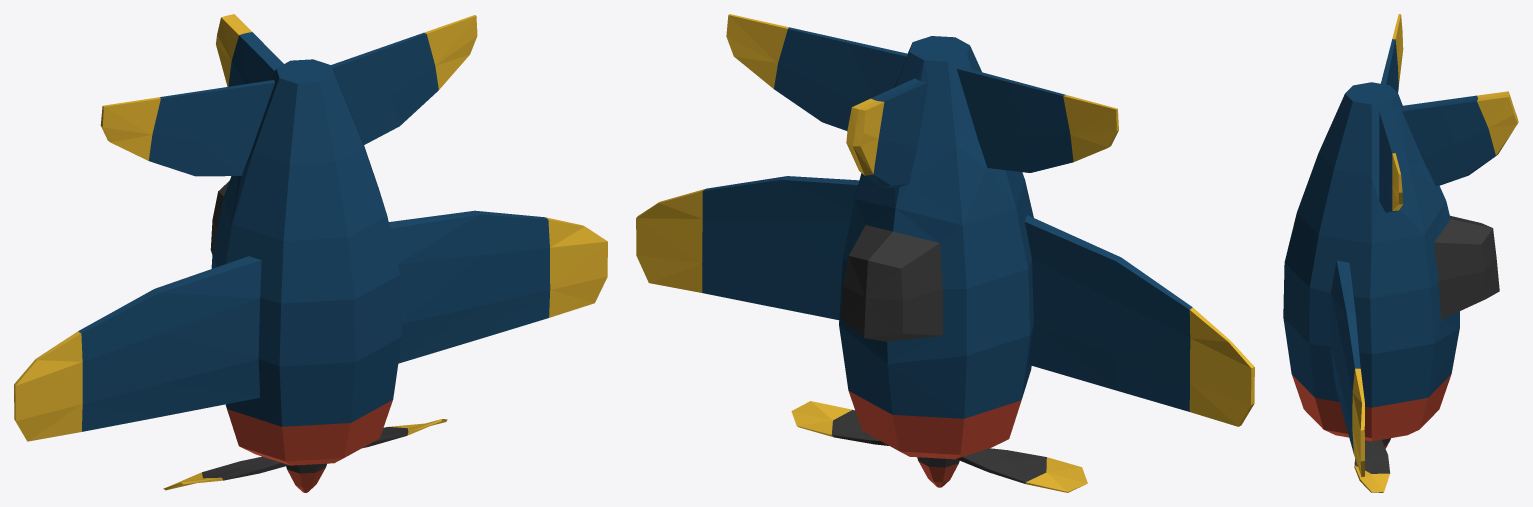
File: airplaneUdemy.dae
3 views of the same model, side by side, from view 1: azimuth 30°, elevation 25°; view 2: azimuth 150°, elevation 25°; view 3: azimuth 270°, elevation 25° (orthographic). The views are drawn at different scales.
Visible parts, largest first — view 1: Cylinder, Cylinder.001; view 2: Cylinder, Cylinder.001; view 3: Cylinder, Cylinder.001.
Boxes of the visible parts, x1,y1,x2,y2 form: Cylinder: (14, 14, 607, 465); Cylinder.001: (163, 419, 447, 492); Cylinder: (636, 14, 1254, 459); Cylinder.001: (791, 401, 1087, 492); Cylinder: (1283, 14, 1518, 476); Cylinder.001: (1354, 438, 1390, 492).
Bounding box in the file's own units: 6.83 × 2.66 × 4.63.
